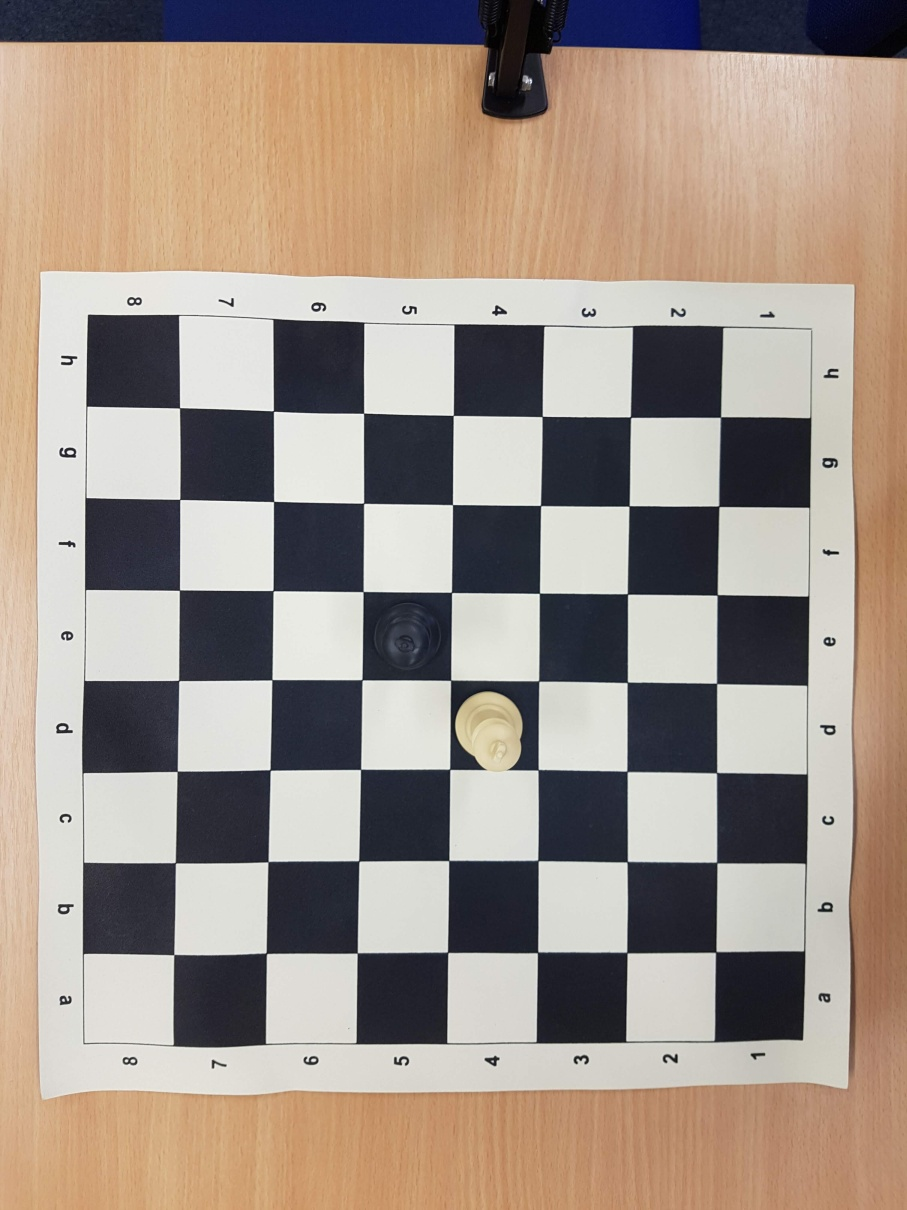chess_king: (453, 688, 525, 774), (373, 602, 442, 673)
